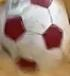Sports-Ball: (2, 0, 69, 70)
